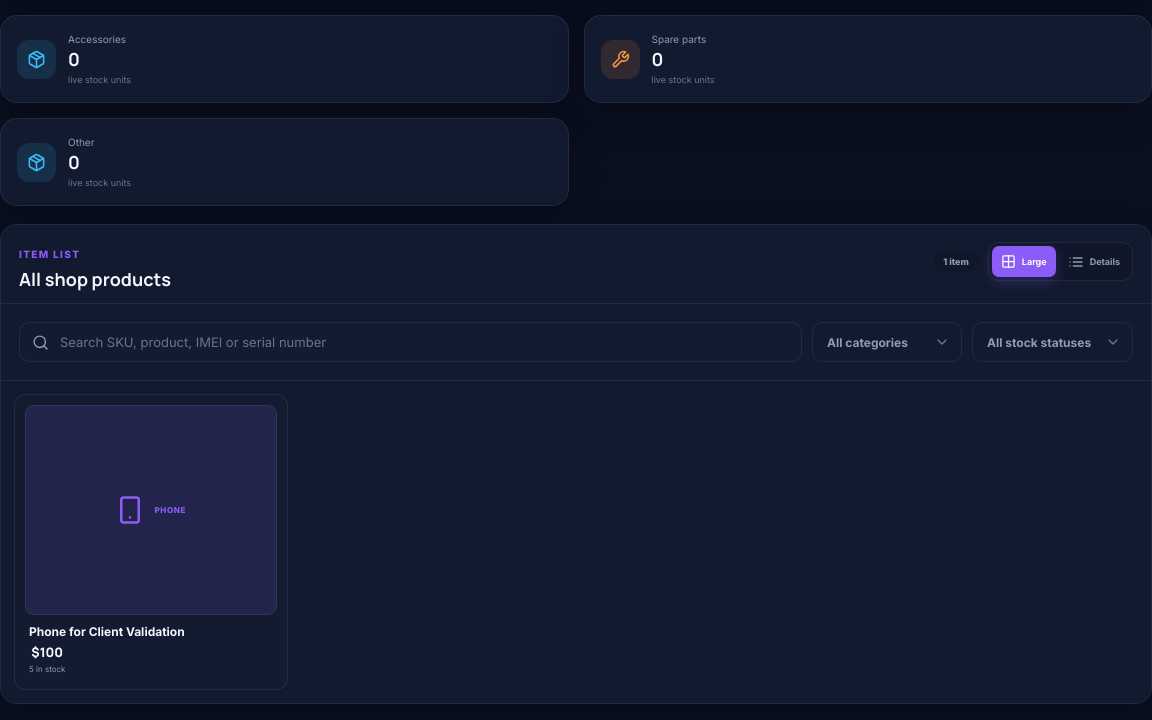
Test: InventoryPage feature integration › displays error inside the dialog and preserves input when client-side price validation fails
(page scrolled)
Expected: the text "Phone for Client Validation" is shown, [29,624,185,639]
Click the button "Phone Phone for Client Validation $100 5 in stock". click: coordinates (151, 542)
box: [14,394,288,690]
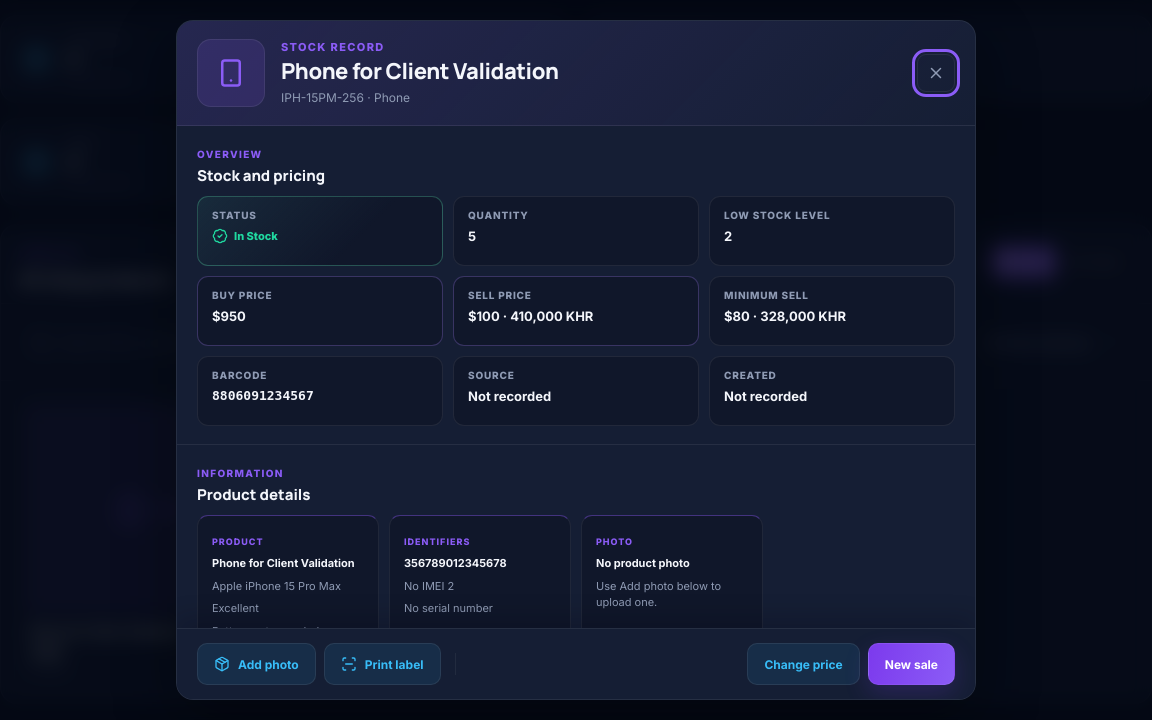
Result: the dialog is shown
Open price editor
Click the button "Change price". click: coordinates (804, 664)
box: [747,643,860,685]
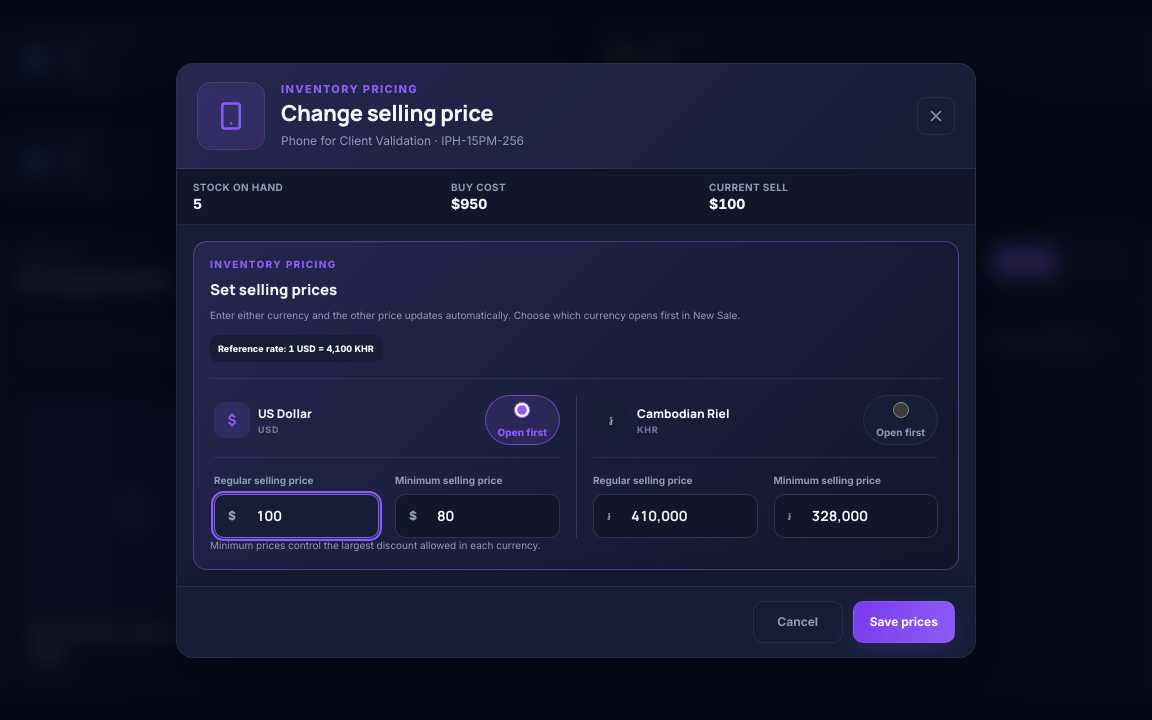
Replace the text in the field named "Regular selling price in Cambodian riel" with "410055". click: coordinates (690, 516)
box: [623,494,756,536]
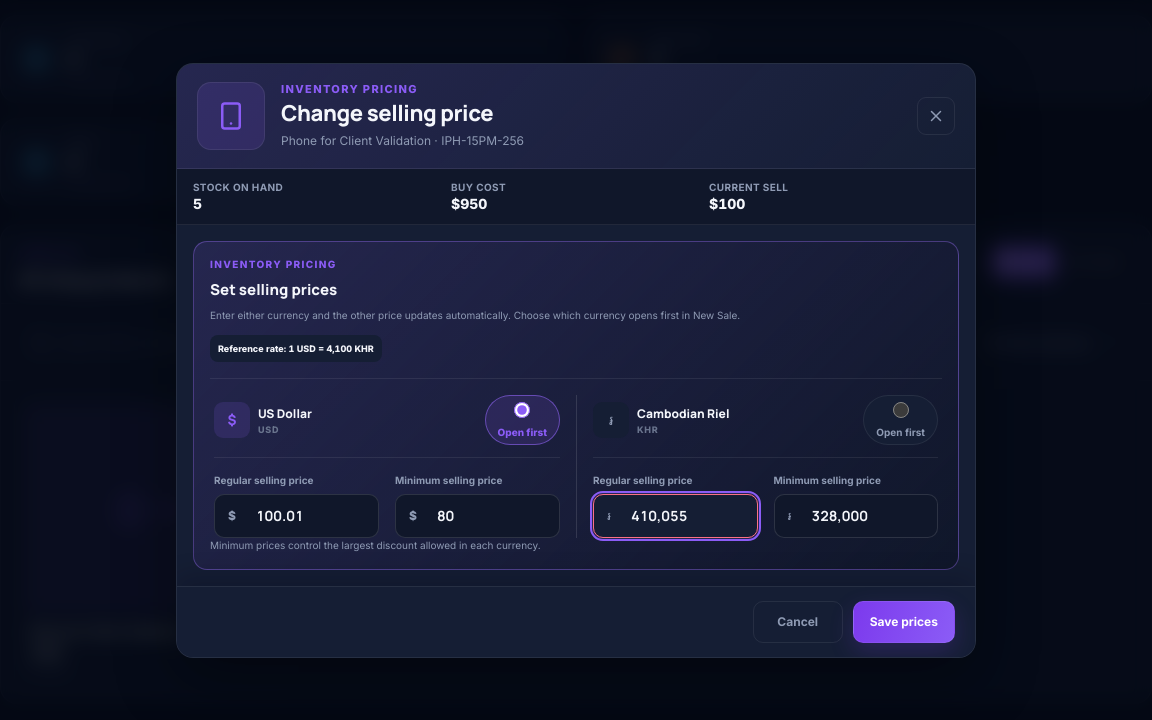
Click the button "Save prices". click: coordinates (904, 622)
box: [853,600,955,642]
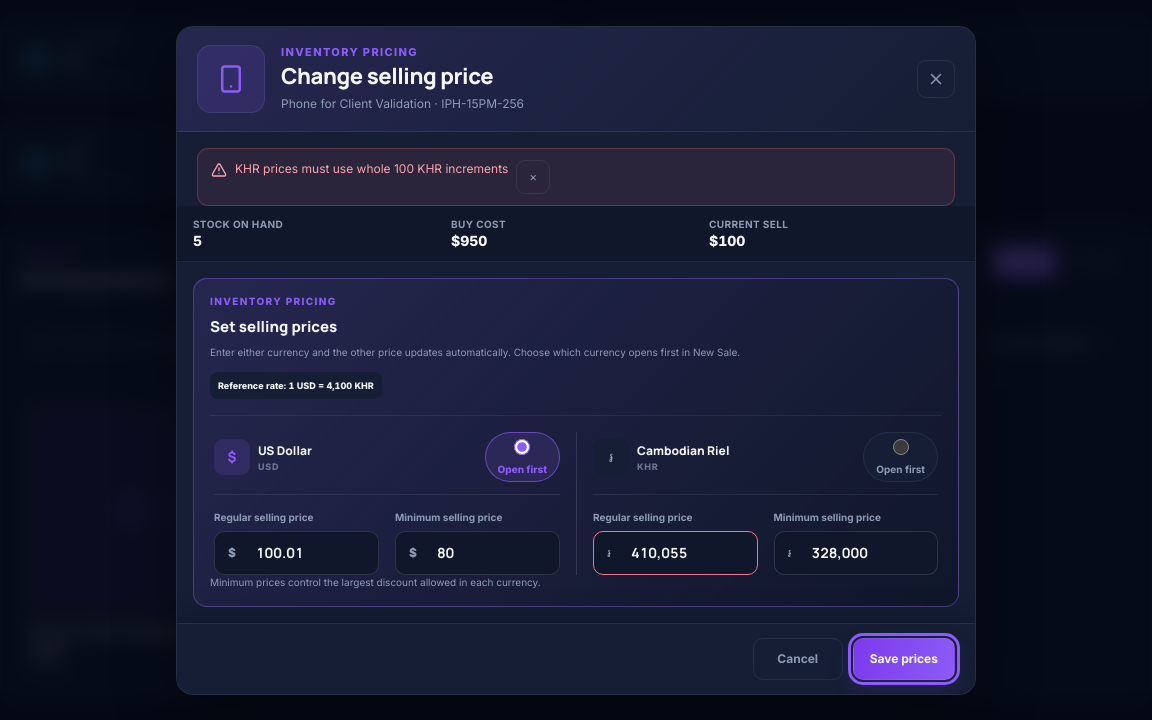
Result: the field named "Regular selling price in Cambodian riel" holds "410,055" at [623,532,756,574]
Result: the text "5" is shown at [193,232,202,248]
Result: the message shows "KHR prices must use whole 100 KHR increments" at [235,160,508,176]
